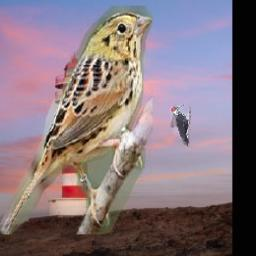Sparrow: (0, 7, 153, 236)
Woodpecker: (171, 104, 192, 147)
